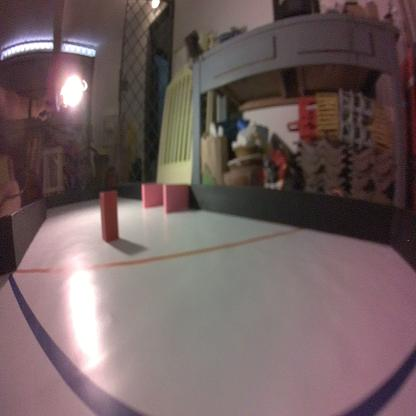magenta: (161, 181, 192, 214), (140, 180, 167, 210)
red: (99, 188, 120, 242)
